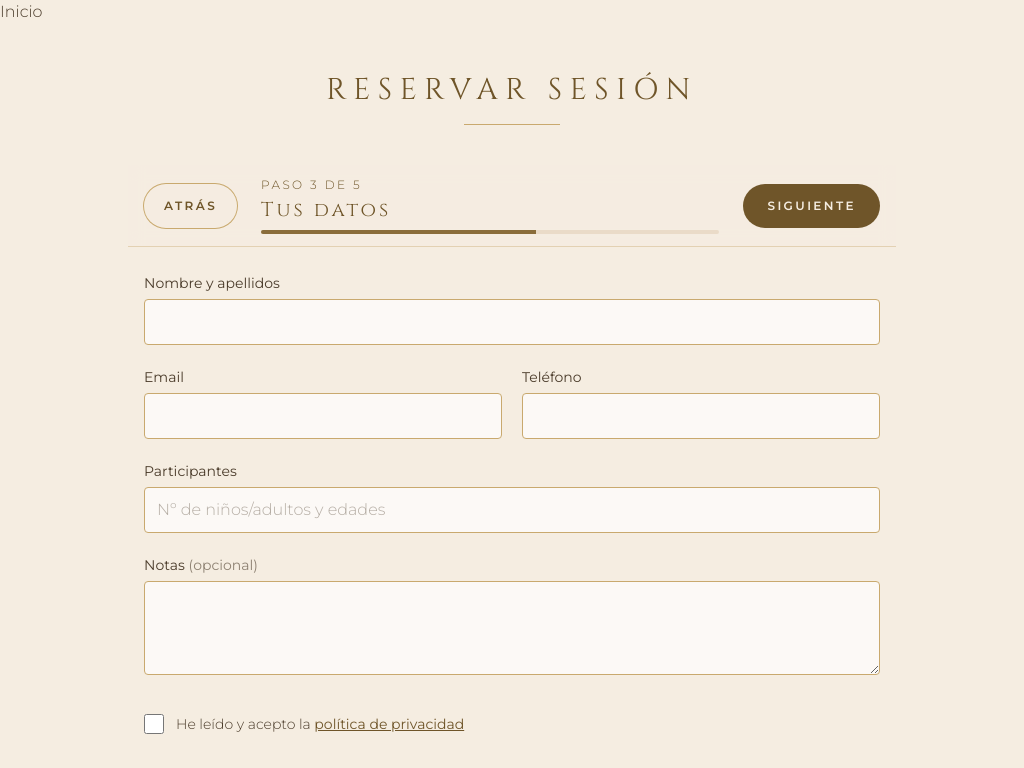
Test: salir de la reserva › a mitad de la reserva pide confirmación y se puede seguir reservando
Click the link "Inicio": (21, 12) x1=0 y1=2 x2=42 y2=21
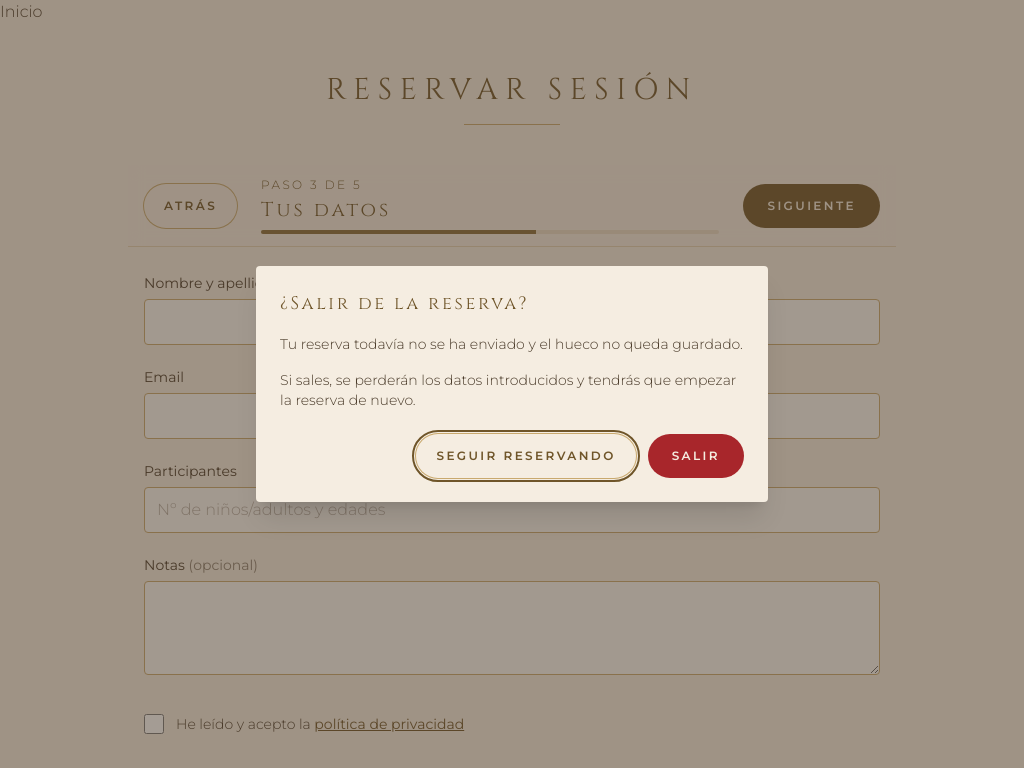
Expected: the dialog "¿Salir de la reserva?" is shown, x1=256 y1=266 x2=768 y2=502
Click the button "Seguir reservando": (526, 456) x1=416 y1=434 x2=636 y2=478
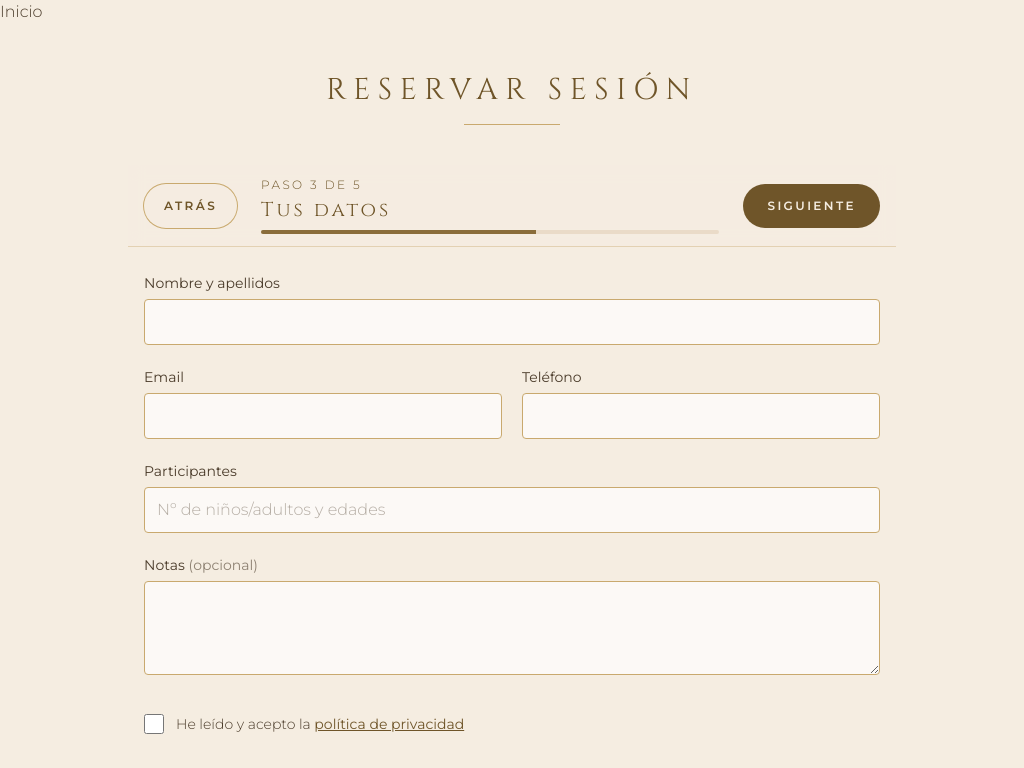
Expected: the heading "Tus datos" is shown, x1=261 y1=196 x2=391 y2=223
Expected: the heading "¿Salir de la reserva?" is gone
